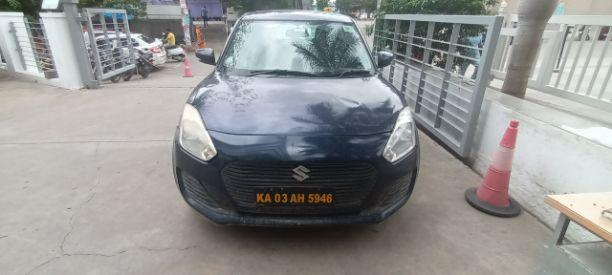license_plate: (171, 8, 421, 229), (253, 187, 335, 206)
